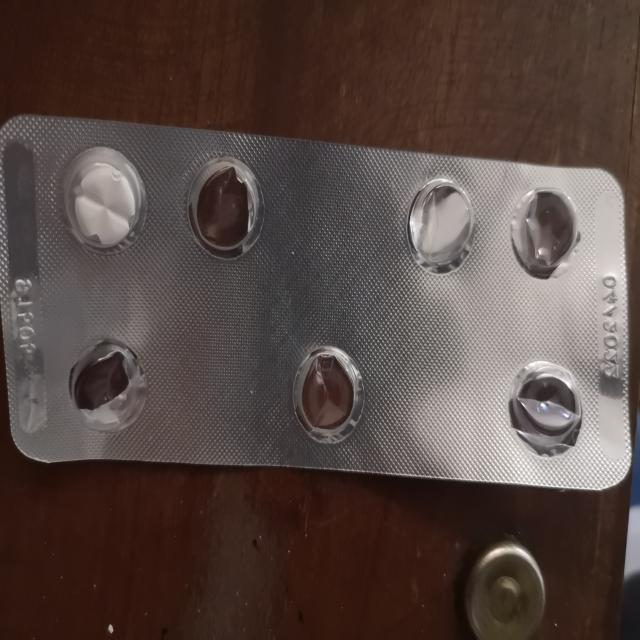Empty: (493, 174, 586, 284), (178, 148, 267, 262), (504, 355, 592, 461), (59, 332, 154, 429), (284, 342, 368, 446), (398, 172, 479, 276)
Pill: (62, 144, 148, 255)
